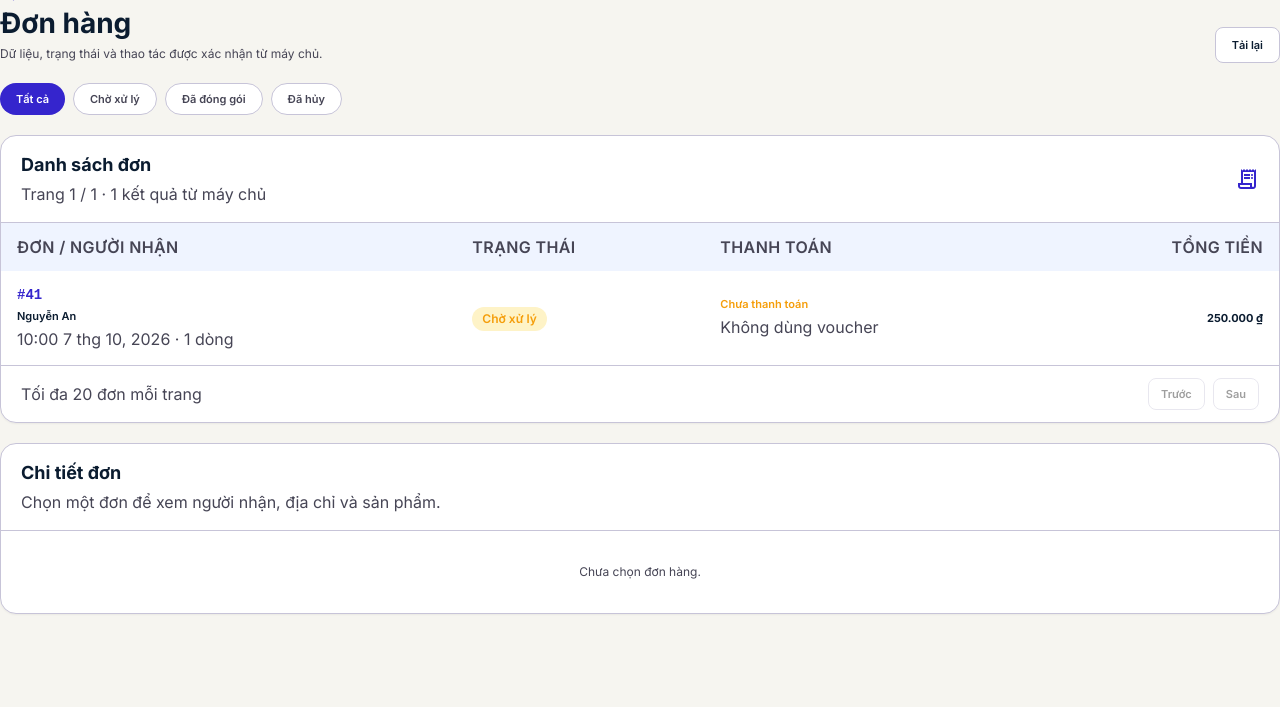
Test: React Admin custom workflows › does not allow staff to pack an unpaid PayOS order
Step 1. Click the button "#41" → (125, 318), box [17,285,234,351]
(page scrolled)
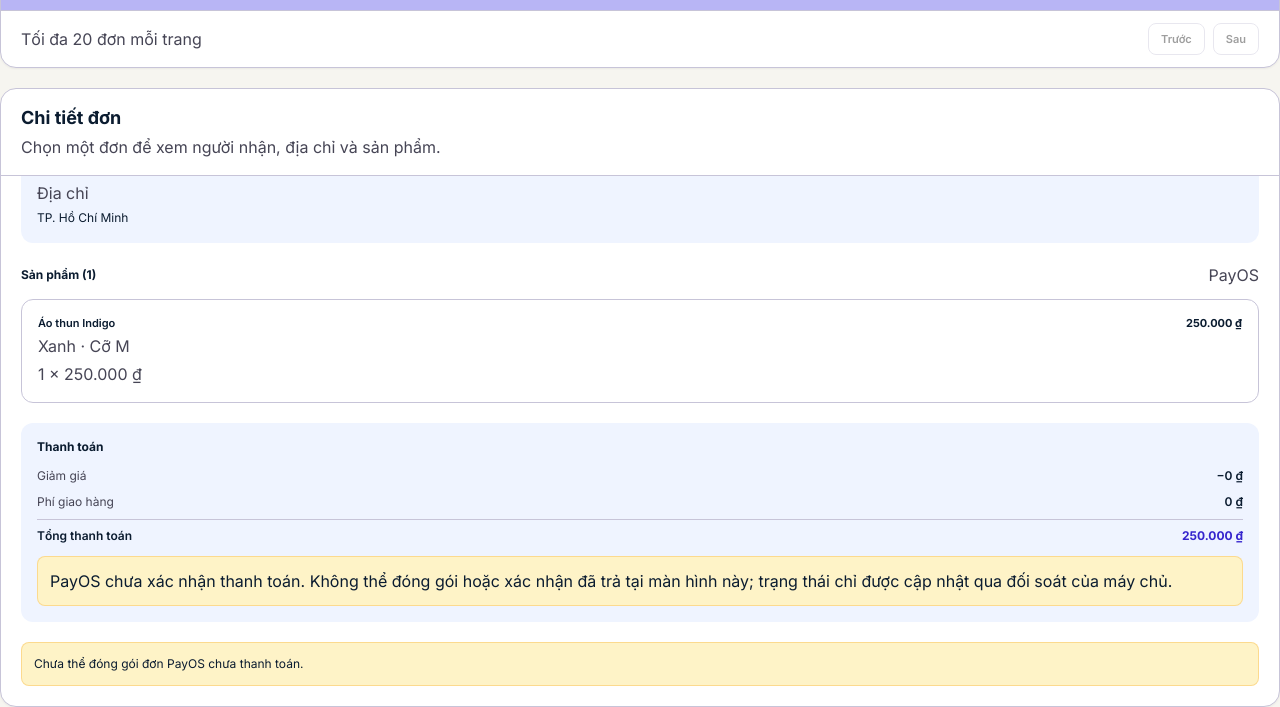
Check: the text "Chưa thể đóng gói đơn PayOS chưa thanh toán." is shown, box [21,642,1259,686]
